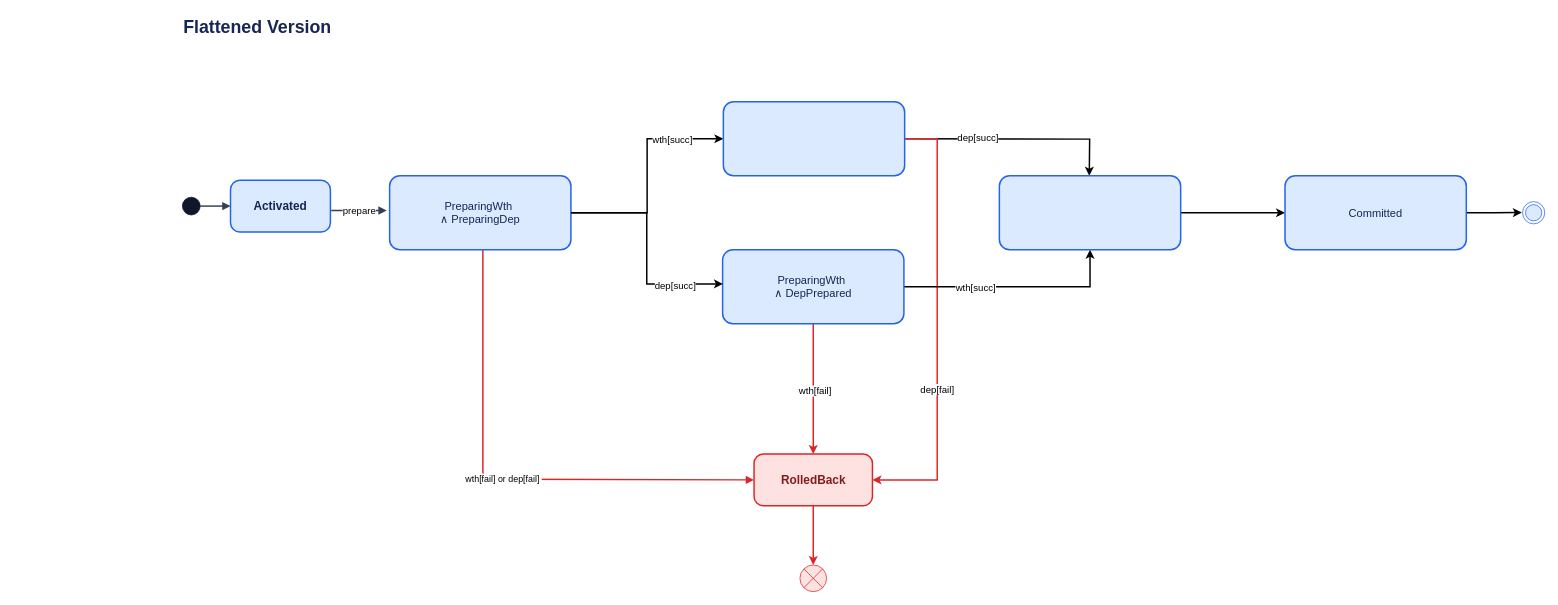
This 1558x605 diagram has some shape labels left out. The centre of each missing label's shape, as x and y in pixels:
"WthPrepared ∧ DepPrepared" belongs at (x=1089, y=212).
"WthPrepared ∧ PreparingDep" belongs at (x=813, y=138).
